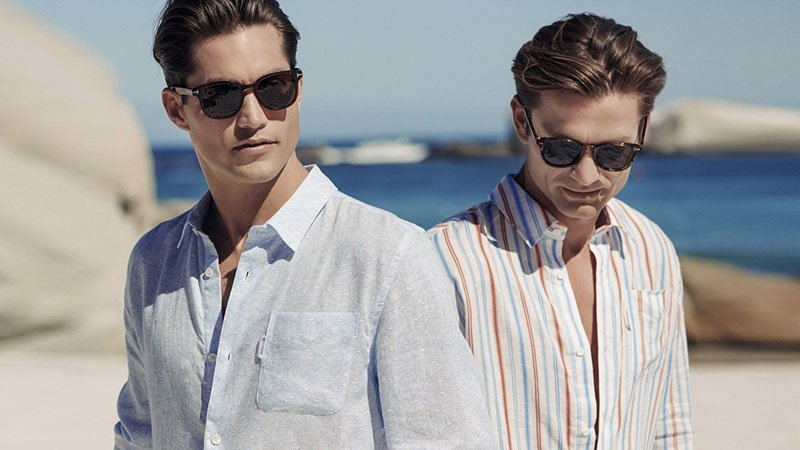long-sleeved shirt: (114, 174, 499, 450), (432, 174, 701, 450)
